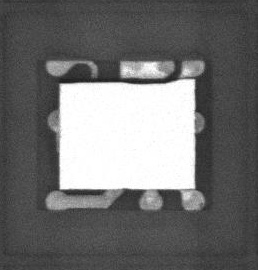DIE_BROKEN: (60, 79, 183, 86)
